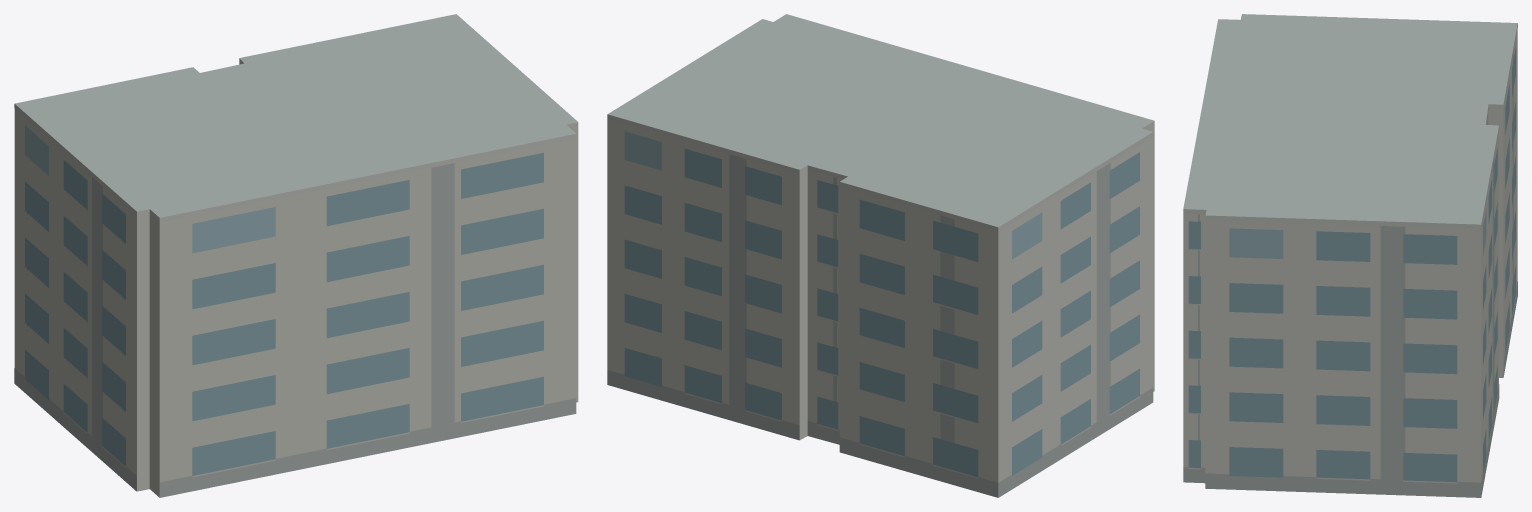
Rendered from survey-upis-32832486.glb.
3 views of the same model, side by side, from view 1: azimuth 30°, elevation 25°; view 2: azimuth 150°, elevation 25°; view 3: azimuth 270°, elevation 25° (orthographic). The views are drawn at different scales.
Visible parts, largest first — view 1: survey-upis-32832486.tmp; view 2: survey-upis-32832486.tmp; view 3: survey-upis-32832486.tmp.
Boxes of the visible parts, bbox=[...] form: survey-upis-32832486.tmp: bbox=[14, 14, 578, 497]; survey-upis-32832486.tmp: bbox=[607, 14, 1154, 497]; survey-upis-32832486.tmp: bbox=[1183, 14, 1517, 497].
Size of the model in its own units: 23.64 by 14.3 by 15.87.
